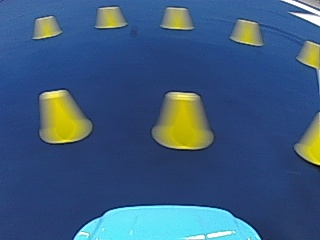cone: (153, 91, 214, 150), (37, 89, 90, 144), (293, 112, 319, 163), (230, 18, 262, 46), (161, 7, 193, 30), (96, 6, 126, 29), (33, 15, 61, 38), (297, 40, 318, 68)
